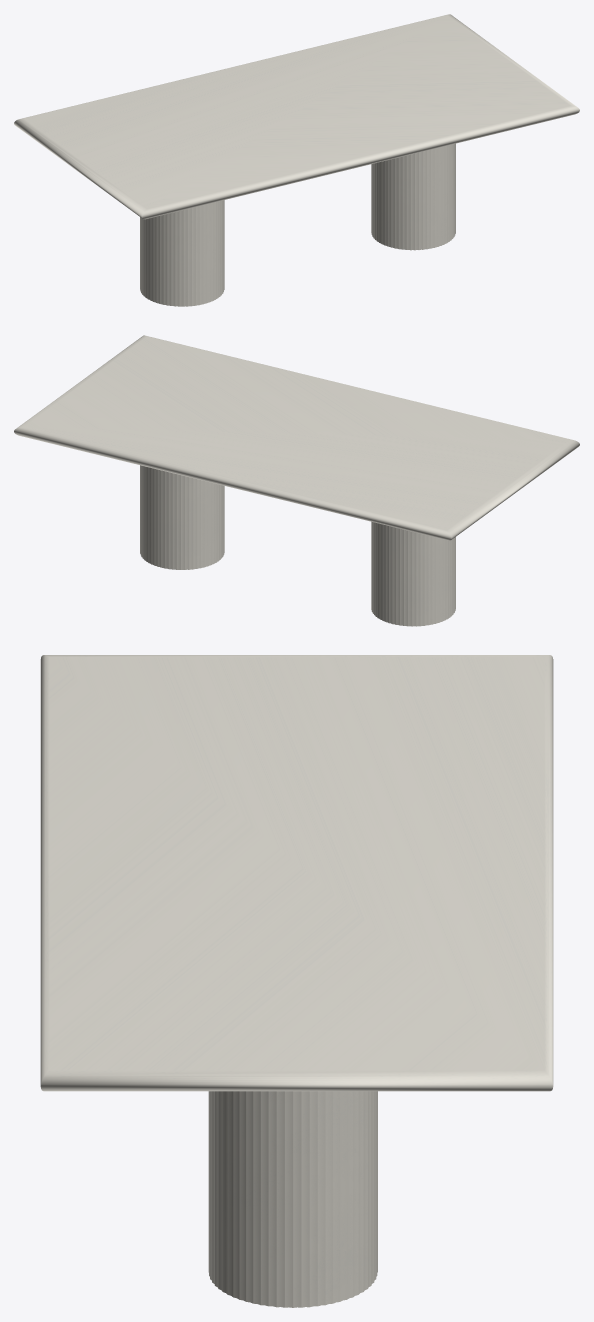
The model's file is pale_recta_round_ripplesecond.glb.
3 renders of one model, top to bottom at view 1: azimuth 30°, elevation 25°; view 2: azimuth 150°, elevation 25°; view 3: azimuth 270°, elevation 25°, orthographic. The views are drawn at different scales.
Visible parts, largest first — view 1: round_recta, ripplesecond; view 2: round_recta, ripplesecond; view 3: round_recta, ripplesecond.
Boxes of the visible parts, x1,y1,x2,y2 form: round_recta: [14, 14, 579, 219]; ripplesecond: [140, 143, 455, 306]; round_recta: [14, 335, 579, 540]; ripplesecond: [140, 465, 455, 626]; round_recta: [40, 655, 553, 1091]; ripplesecond: [208, 1091, 377, 1307].
Bounding box in the file's own units: 7.76 × 2.5 × 3.93.
1 material, 1 textured.
